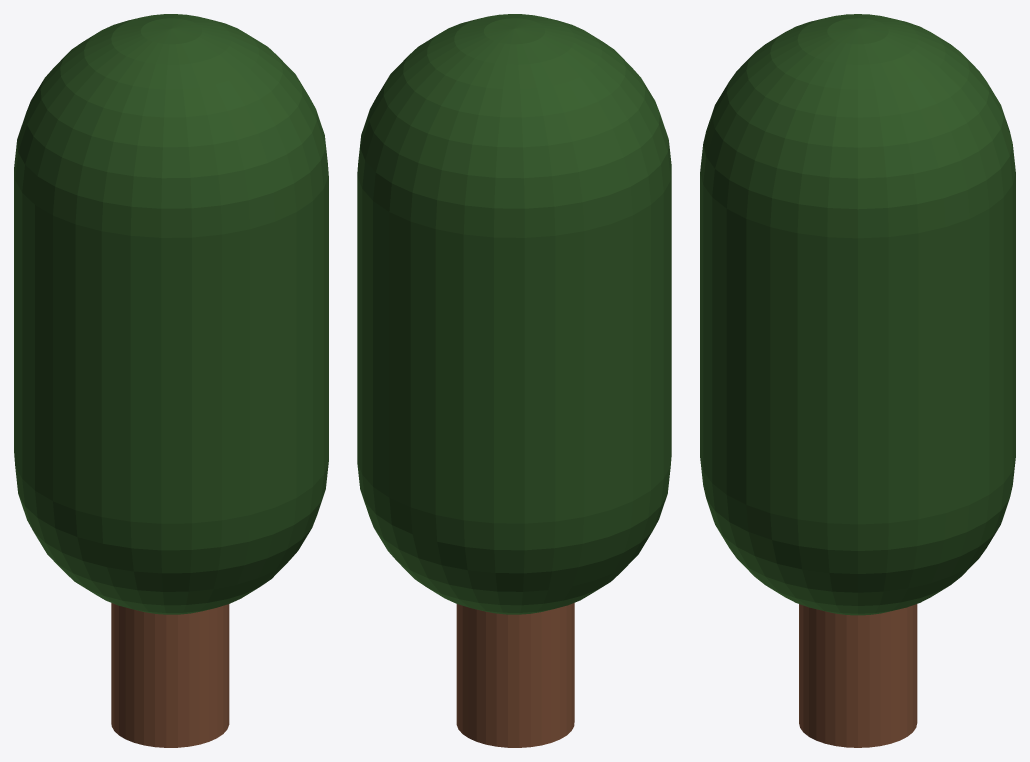
Rendered from tree1.fbx.
3 views of the same model, side by side, from view 1: azimuth 30°, elevation 25°; view 2: azimuth 150°, elevation 25°; view 3: azimuth 270°, elevation 25° (orthographic).
Visible parts, largest first — view 1: Cylinder; view 2: Cylinder; view 3: Cylinder.
Part boxes in pixels (left/top/right/bottom): Cylinder: left=14, top=14, right=328, bottom=747; Cylinder: left=357, top=14, right=671, bottom=747; Cylinder: left=700, top=14, right=1015, bottom=747.
Size of the model in its own units: 160 by 389 by 160.
